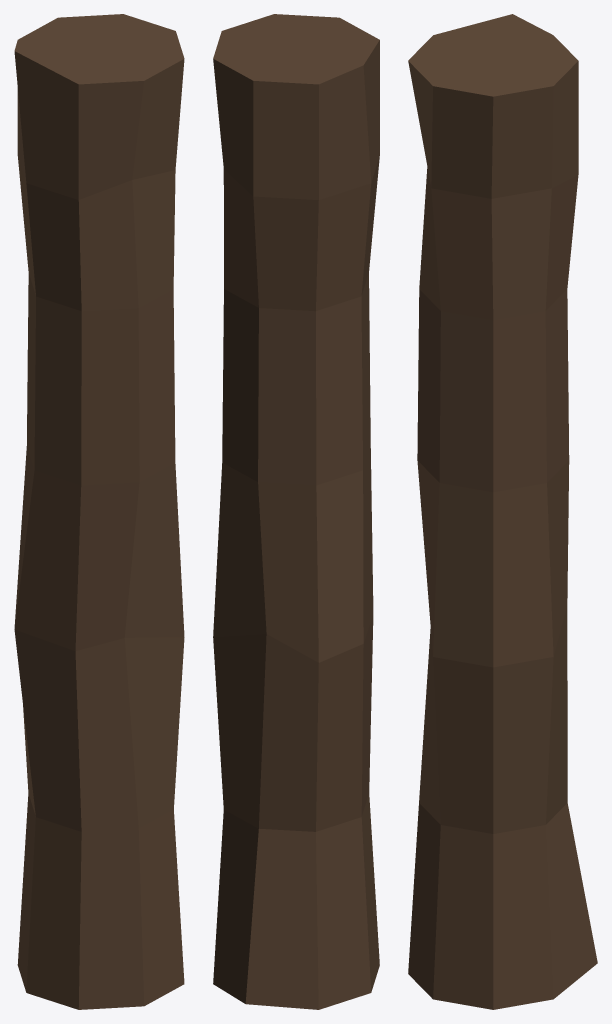
Rendered from Longhouse suport.fbx.
The picture shows the model from 3 angles, left to right: view 1: azimuth 30°, elevation 25°; view 2: azimuth 150°, elevation 25°; view 3: azimuth 270°, elevation 25°; orthographic projection.
Parts seen in each view (by area): view 1: Cylinder; view 2: Cylinder; view 3: Cylinder.
Boxes of the visible parts, left/top/right/bottom form: Cylinder: left=14, top=14, right=184, bottom=1009; Cylinder: left=213, top=14, right=379, bottom=1009; Cylinder: left=408, top=14, right=597, bottom=1009.
Bounding box in the file's own units: 143 × 842 × 157.
